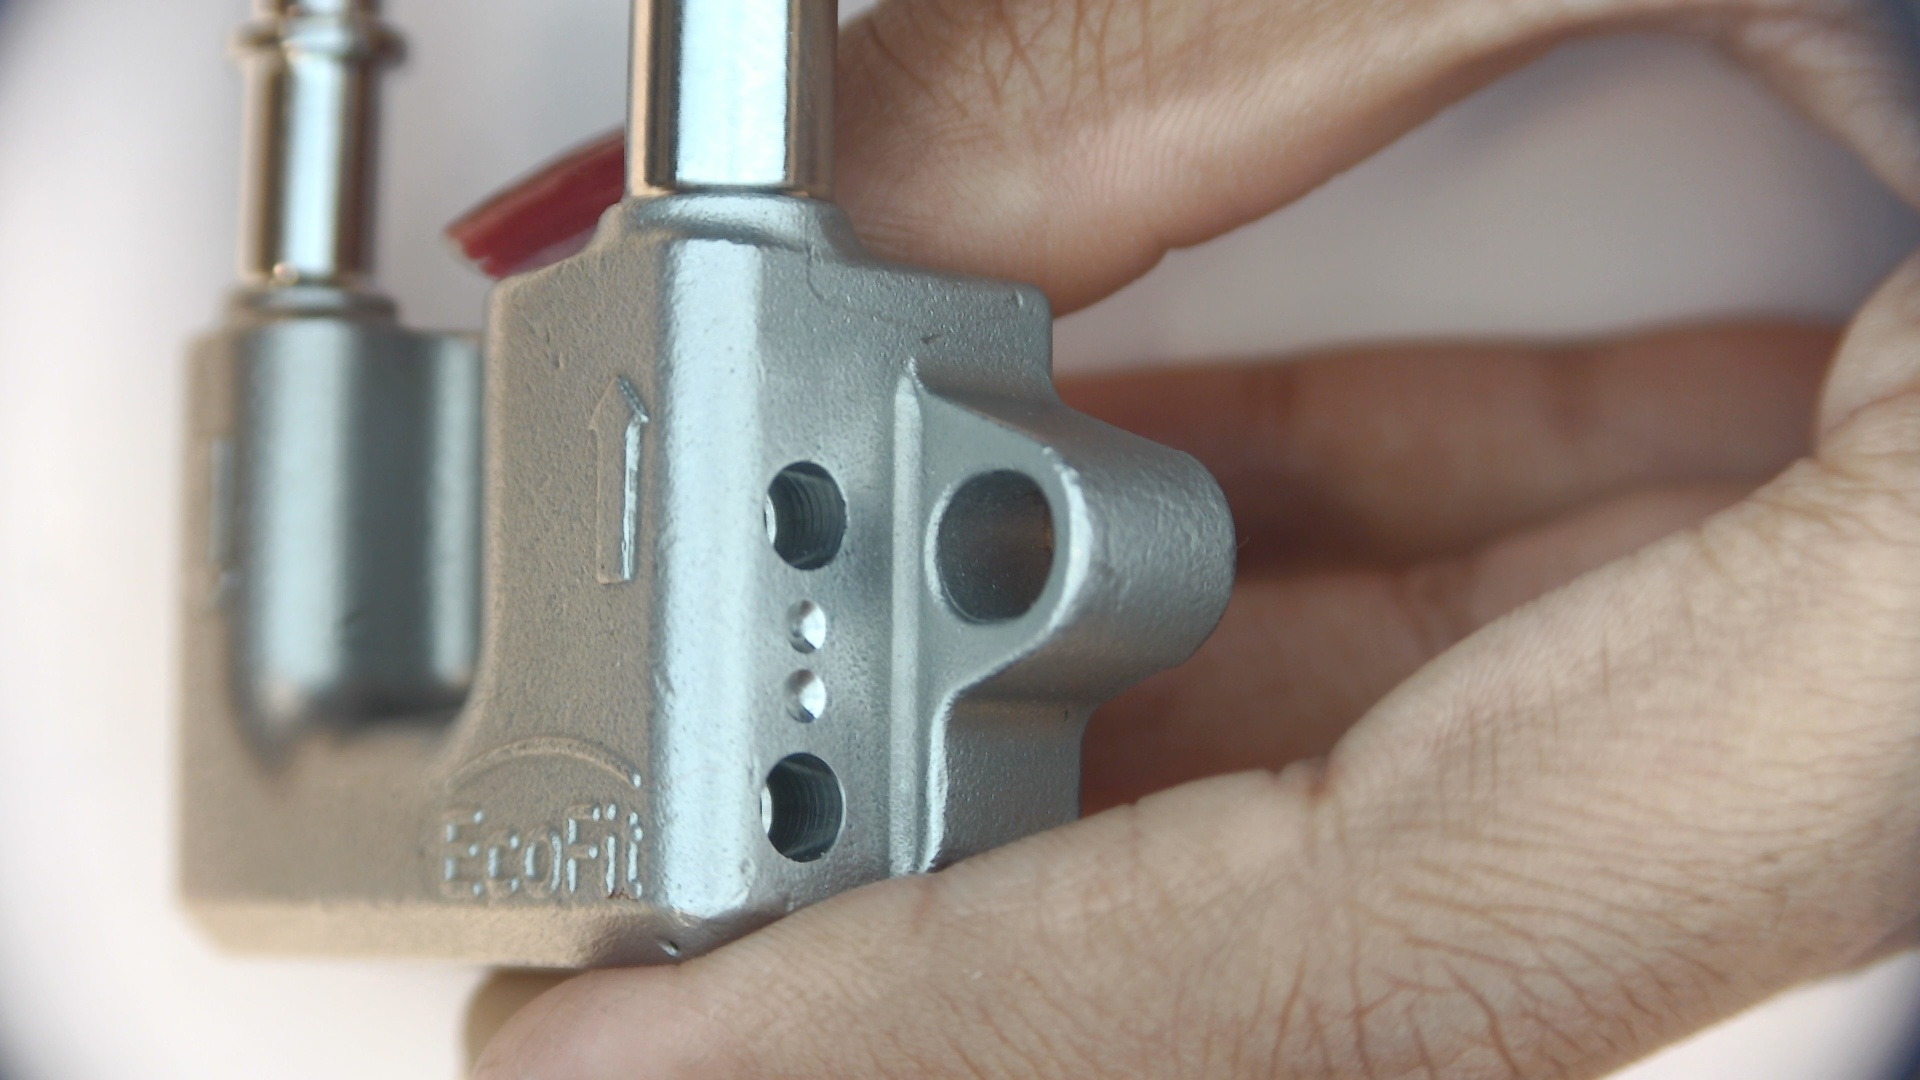thread_presence: (1557, 899, 1698, 1080)
